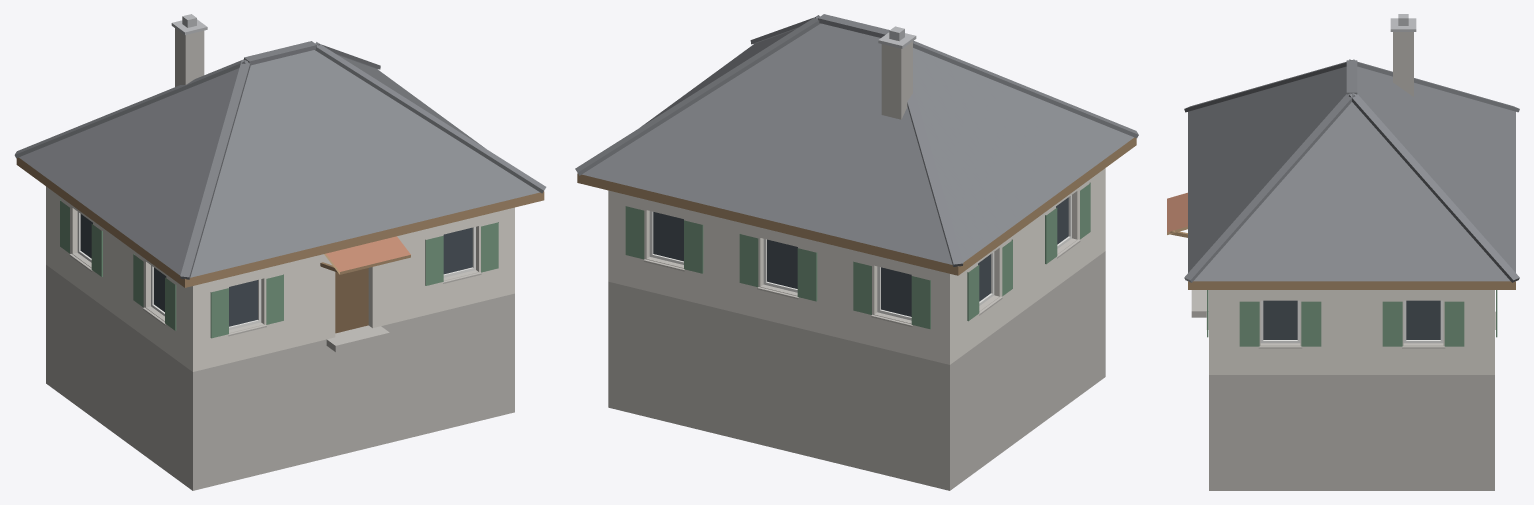
Rendered from french_house_1_s.glb.
3 renders of one model, left to right at view 1: azimuth 30°, elevation 25°; view 2: azimuth 150°, elevation 25°; view 3: azimuth 270°, elevation 25°, orthographic. The views are drawn at different scales.
Visible parts, largest first — view 1: french_house_1_s; view 2: french_house_1_s; view 3: french_house_1_s.
Boxes of the visible parts, left/top/right/bottom form: french_house_1_s: left=14, top=14, right=546, bottom=490; french_house_1_s: left=575, top=14, right=1138, bottom=490; french_house_1_s: left=1167, top=14, right=1519, bottom=490.
Size of the model in its own units: 10.8 by 10.63 by 9.25.
